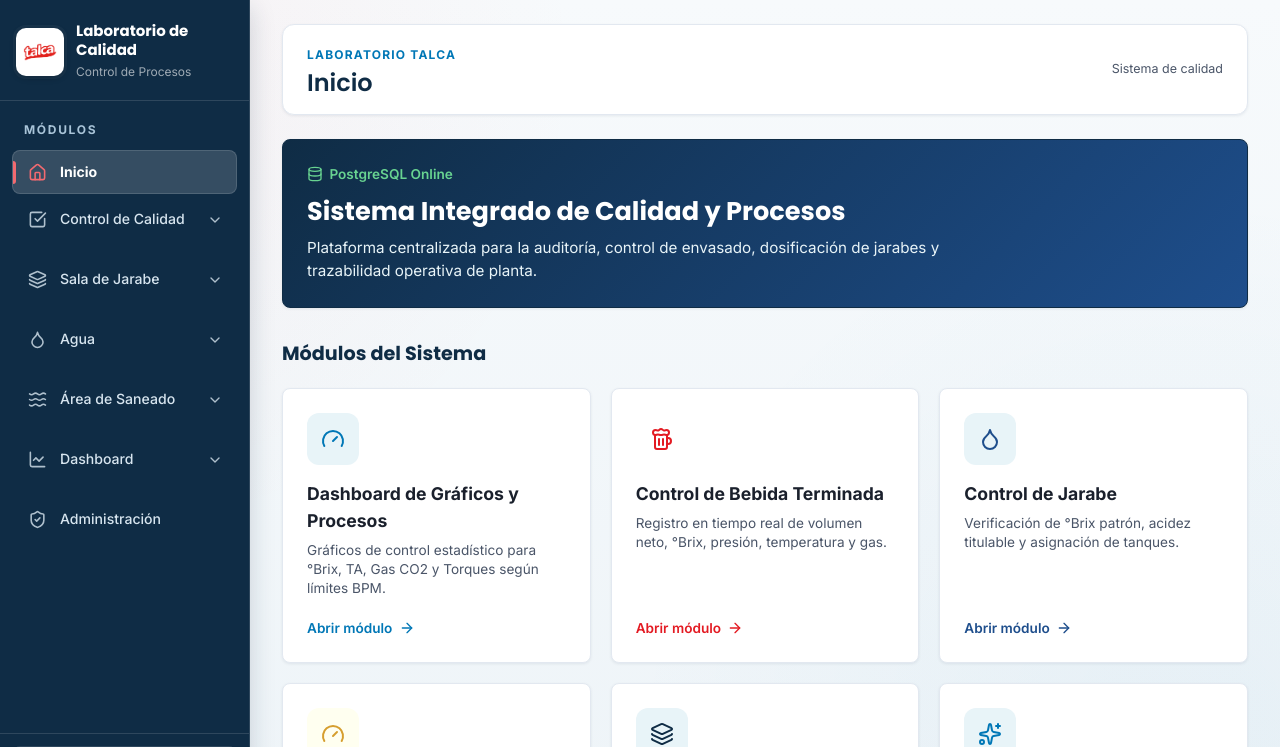
Test: oculta el bloque de línea en Inicio y Exportar CSV en Dashboard
Expected: the heading "Sistema Integrado de Calidad y Procesos" is shown, [307,193,846,229]
Step 1. Click the button "Dashboard" → (124, 460), box [12,438,237,482]
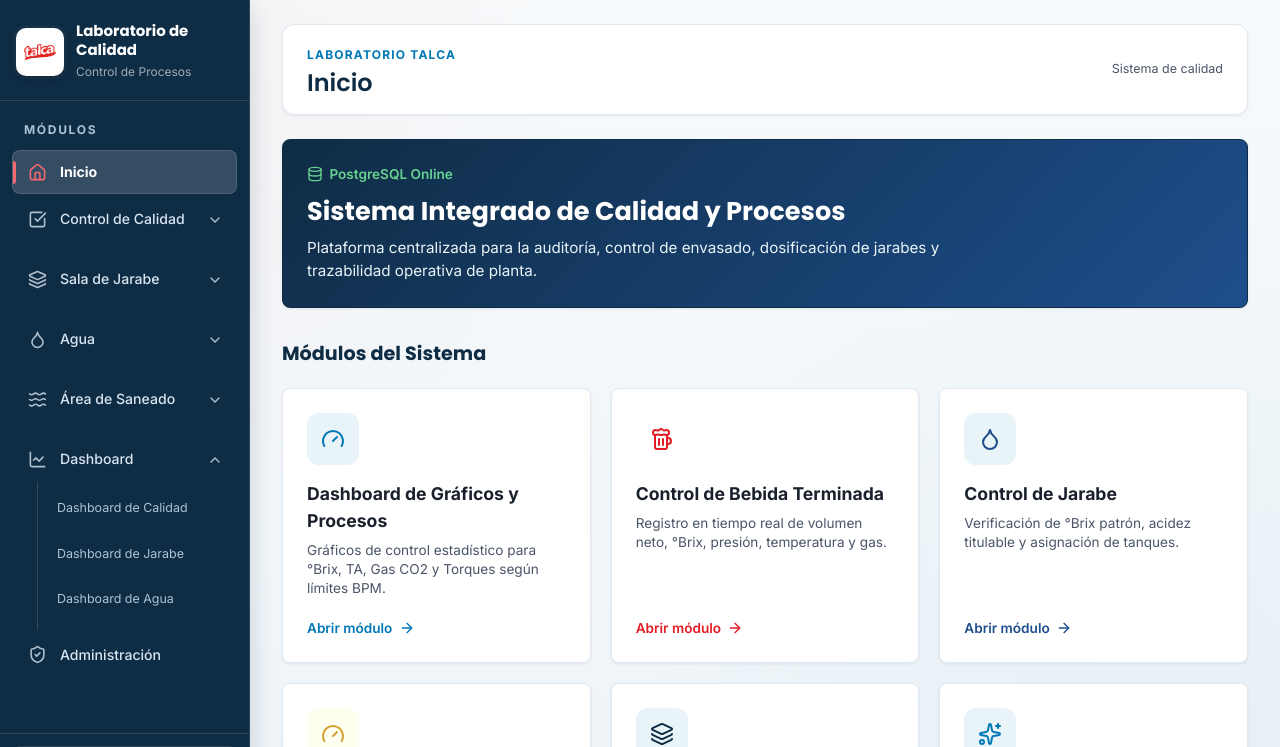
Step 2. Click the button "Dashboard de Calidad" → (141, 508), box [46,486,237,530]
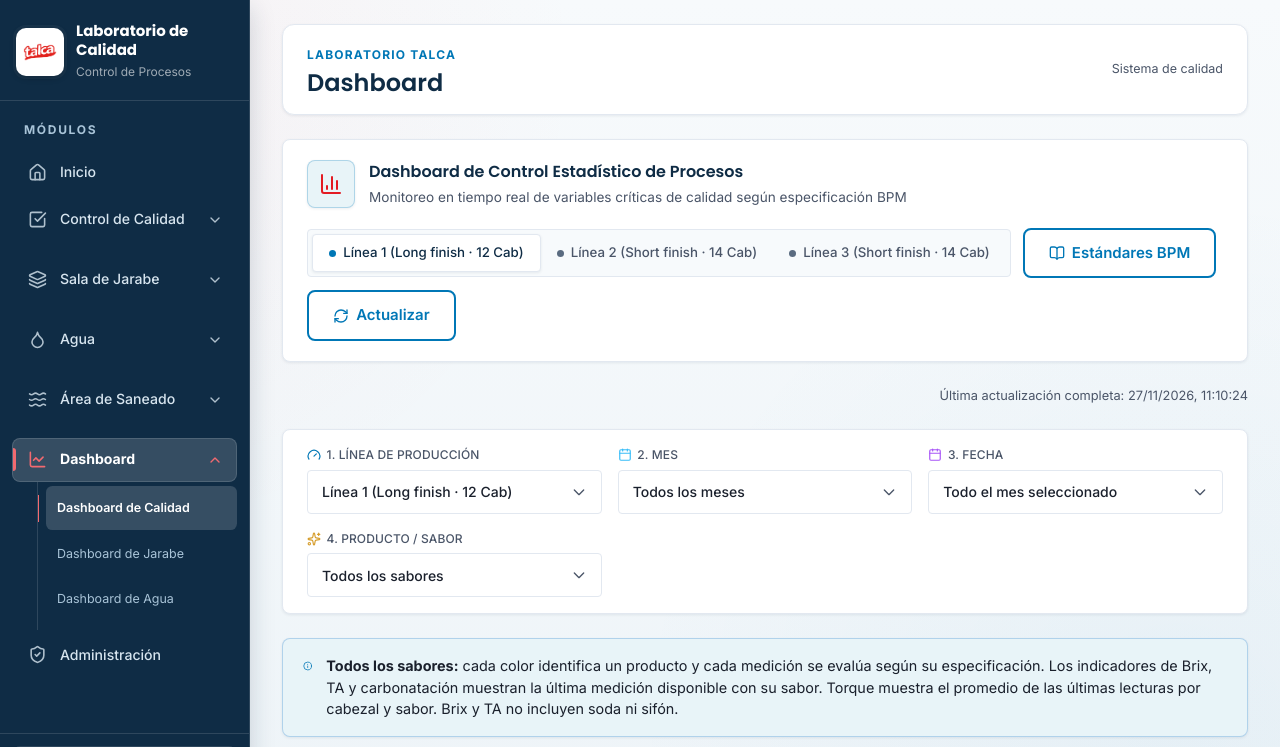
Expected: the heading "Dashboard" is shown, [307,68,456,98]
